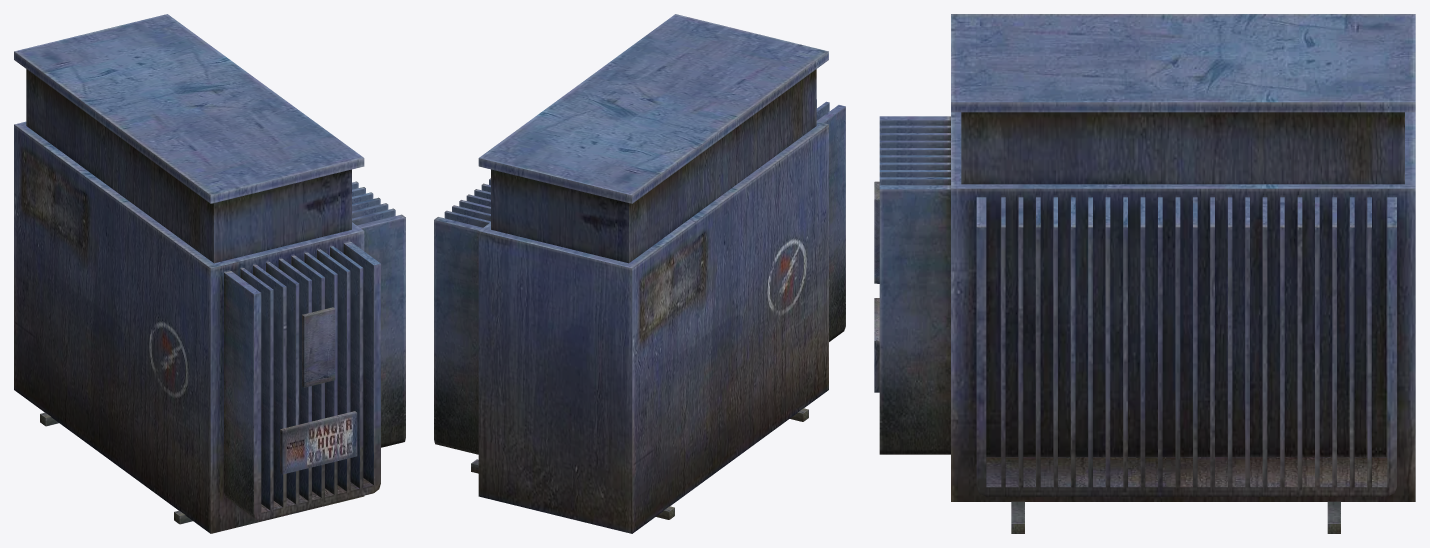
The model's file is transformer.glb.
3 renders of one model, left to right at view 1: azimuth 30°, elevation 25°; view 2: azimuth 150°, elevation 25°; view 3: azimuth 270°, elevation 25°, orthographic. The views are drawn at different scales.
Visible parts, largest first — view 1: 0_transformer; view 2: 0_transformer; view 3: 0_transformer.
Boxes of the visible parts, x1,y1,x2,y2 form: 0_transformer: [14, 14, 405, 533]; 0_transformer: [434, 14, 845, 533]; 0_transformer: [874, 14, 1415, 533].
Size of the model in its own units: 1.48 by 2.32 by 2.78.
Materials: 1 (1 with a texture image).
